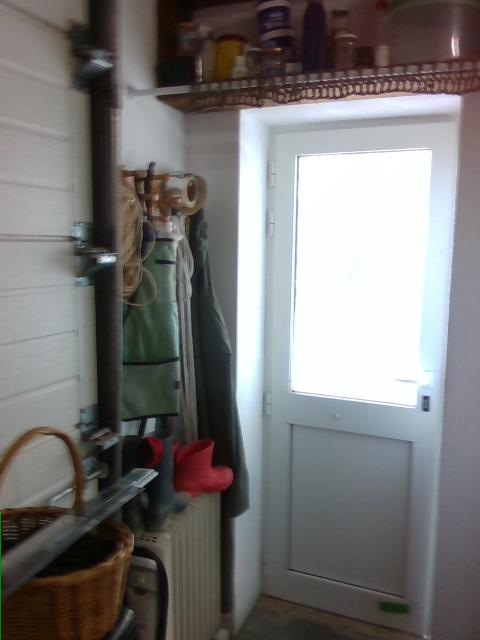door: (234, 95, 458, 638)
